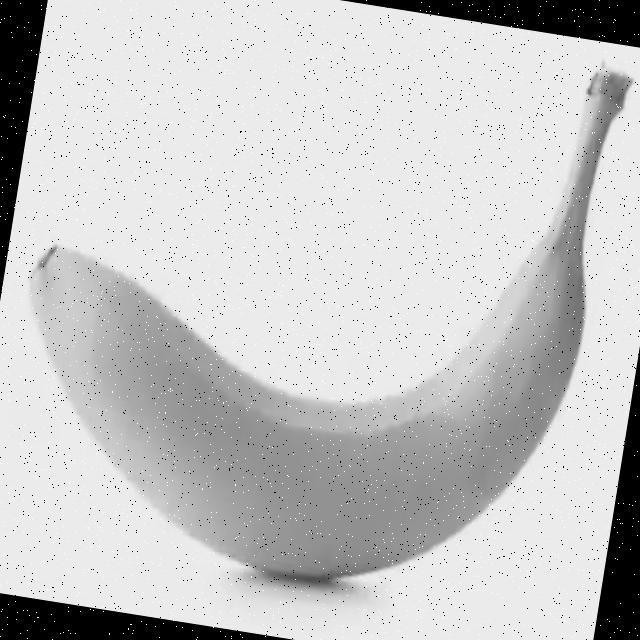Ripe: (0, 9, 623, 621)
